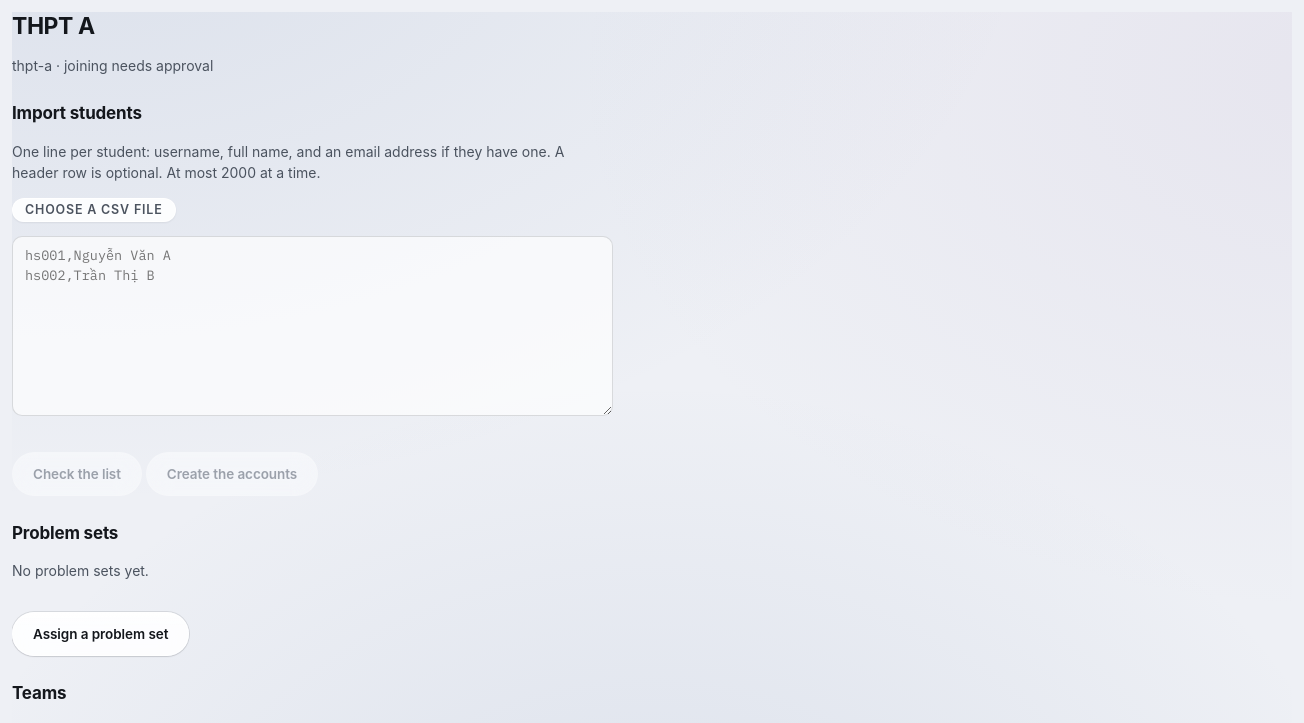
it: the roster import panel › shows the credentials as a printable table, a download AND copyable text
Expected: the heading "Import students" is shown, [12,103,142,123]
Type "hs001,A" into the text box named "Student list".
click(312, 326); type("hs001,A")  # box [12,236,613,416]
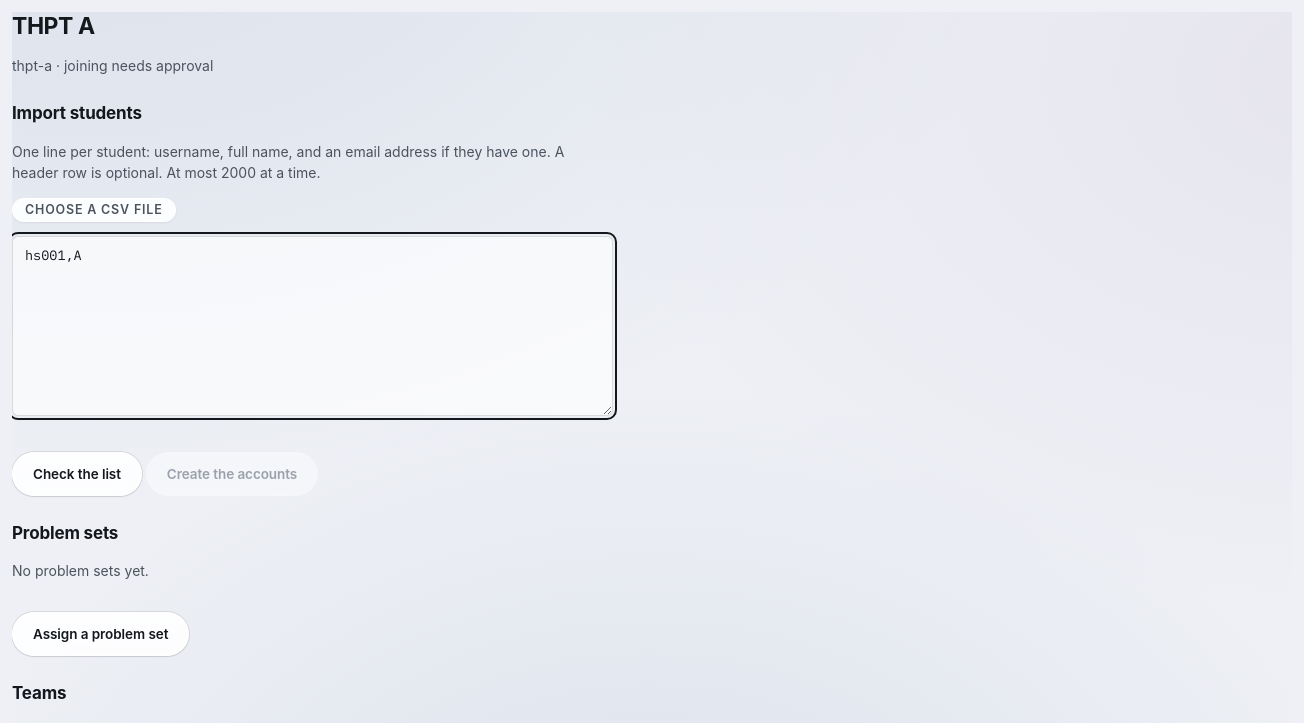
Click the button "Check the list".
click(77, 474)  # box [12,452,142,496]
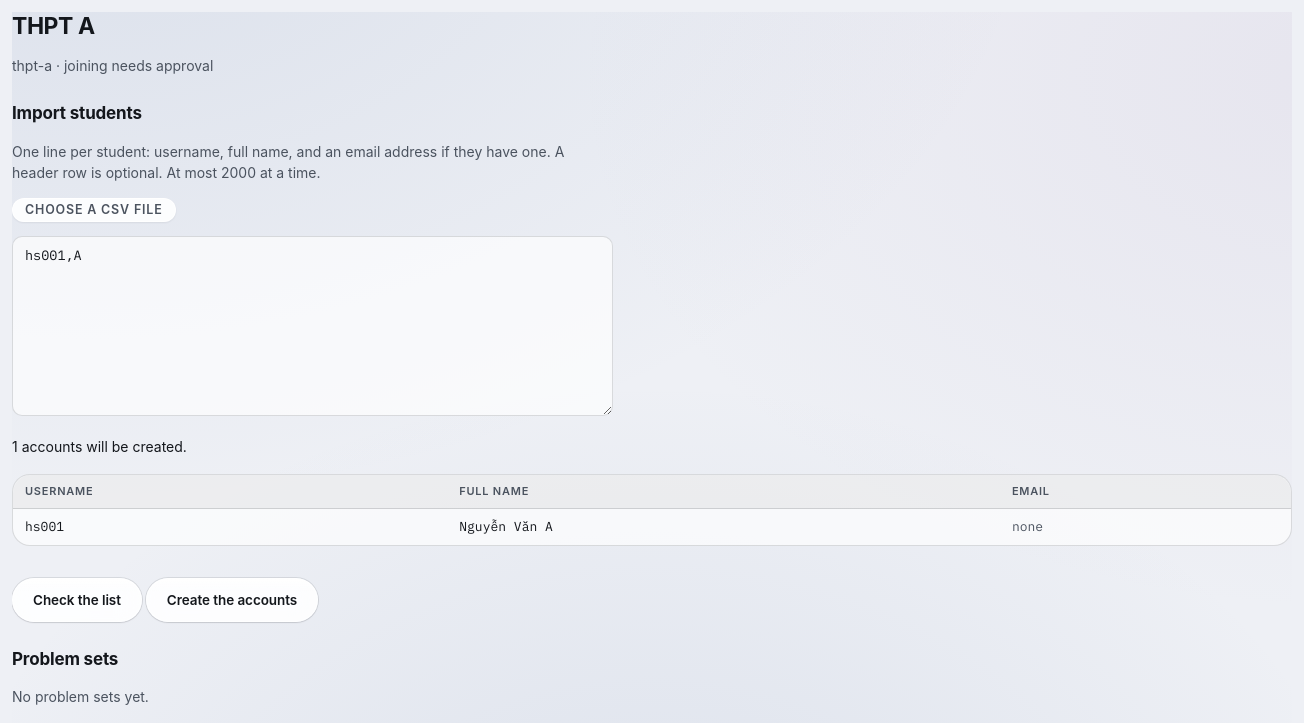
Click the button "Create the accounts".
click(232, 600)  # box [146,578,318,622]
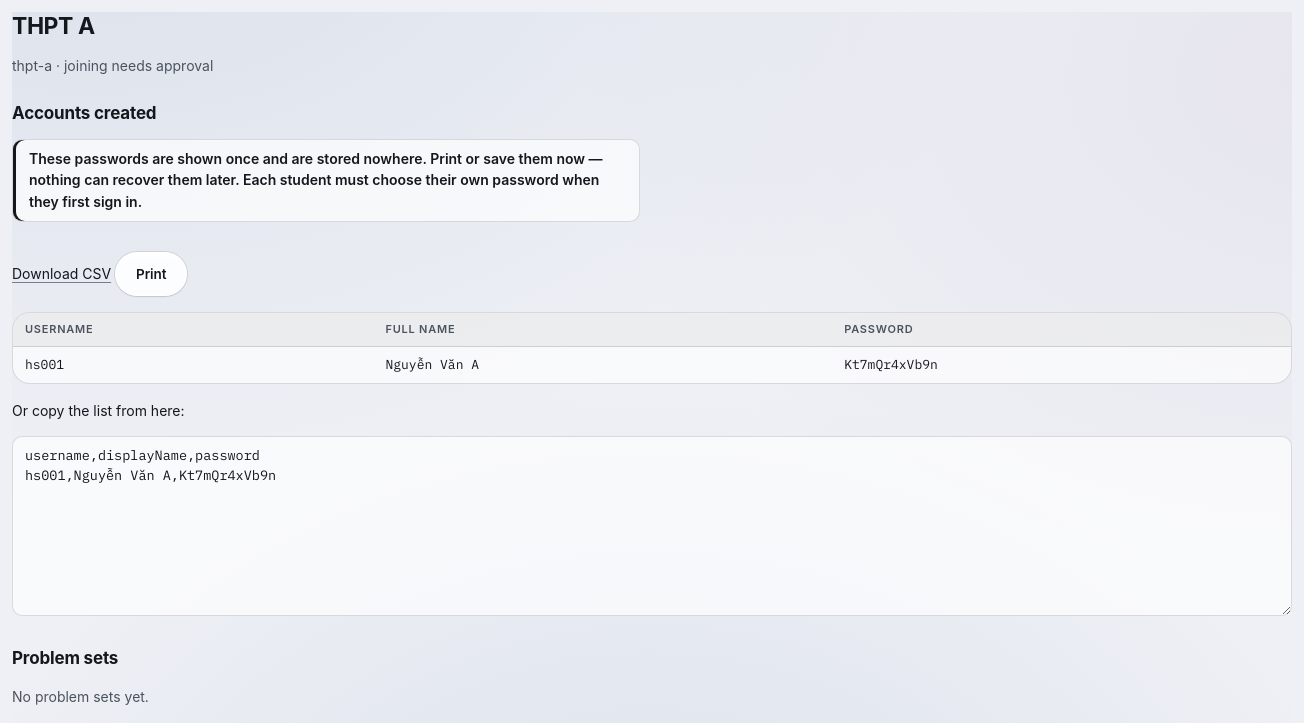
Expected: the heading "Accounts created" is shown, [12,103,156,123]
Expected: the message shows "These passwords are shown once and are stored nowhere. Print or save them now — nothing can recover them later. Each student must choose their own password when", [29,150,603,210]
Expected: the text "Kt7mQr4xVb9n" is shown, [832,347,1291,383]
